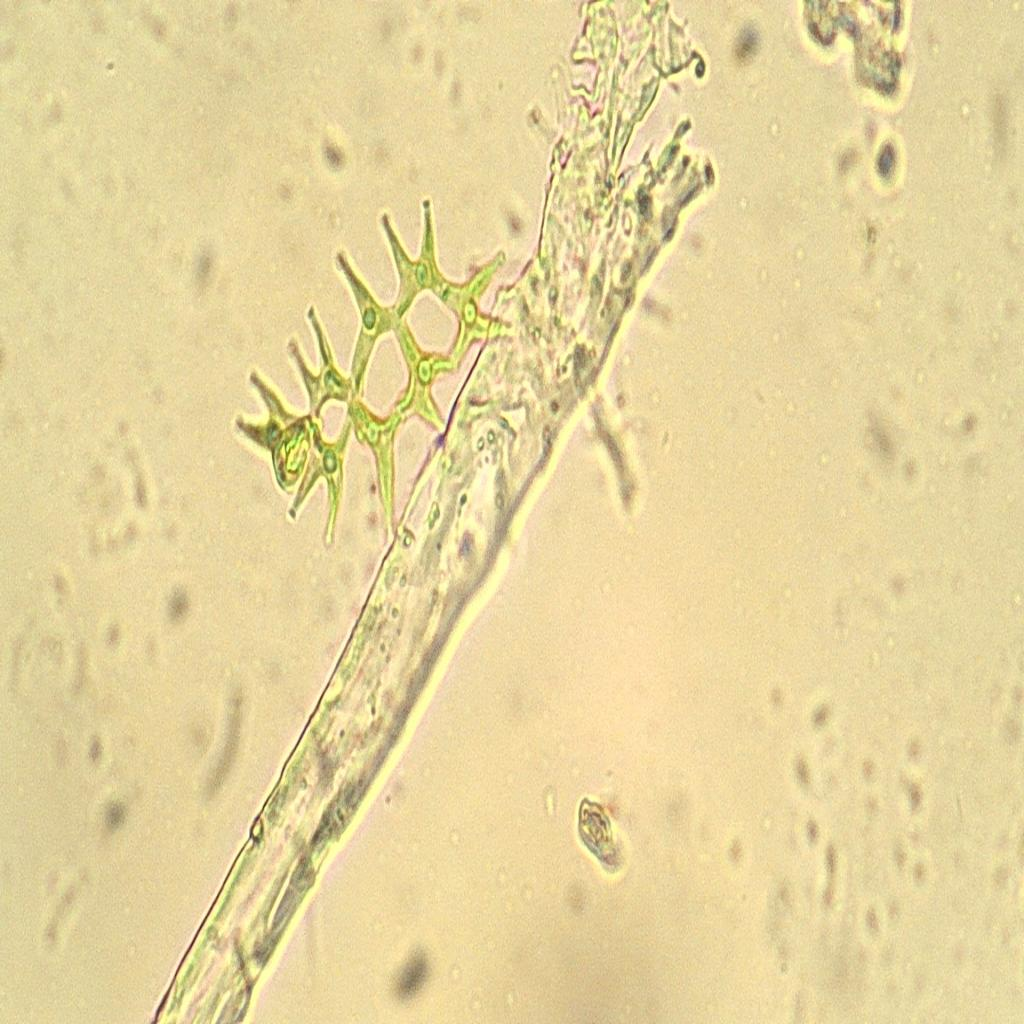Pediastrum_CFI: (225, 172, 547, 562)
